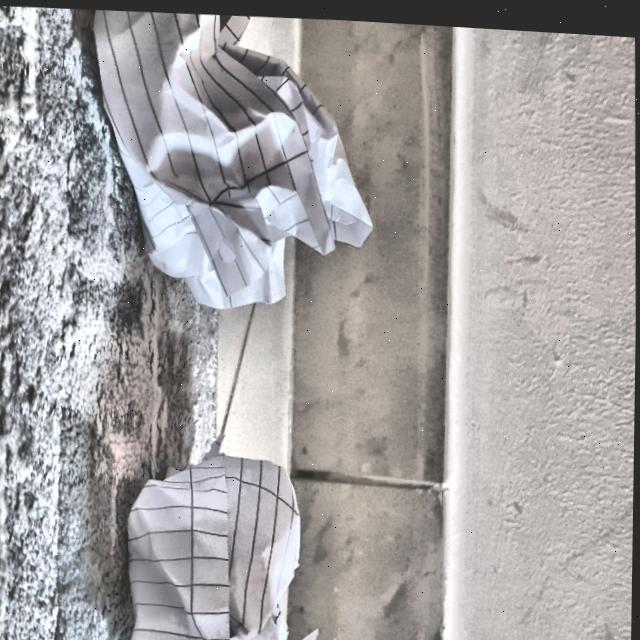paper: (87, 4, 378, 308), (118, 427, 318, 640)
